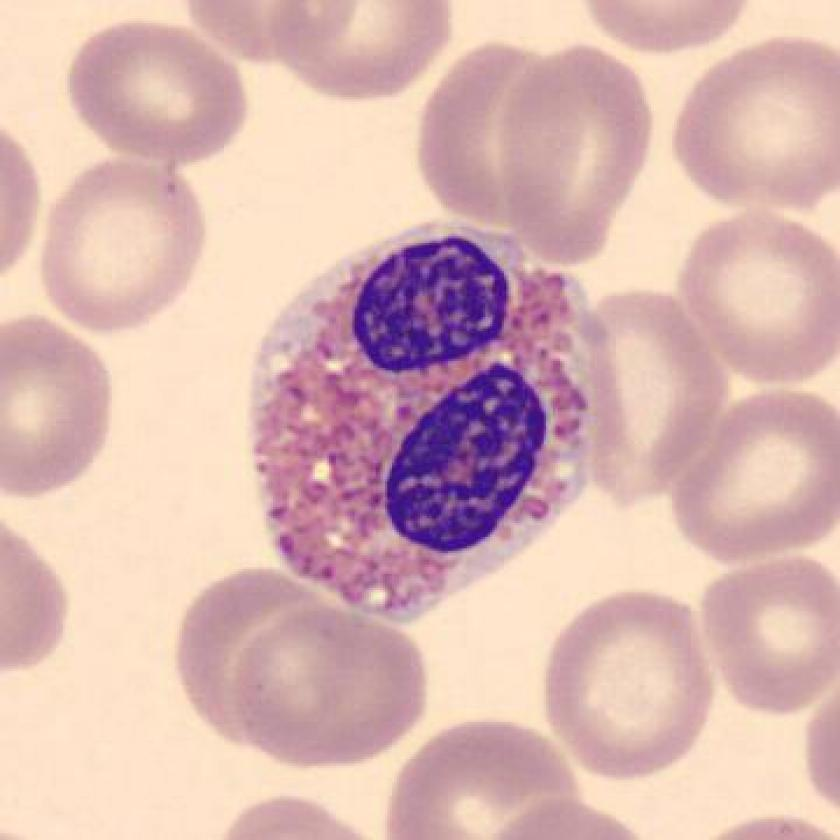eosinophil: (241, 219, 622, 631)
